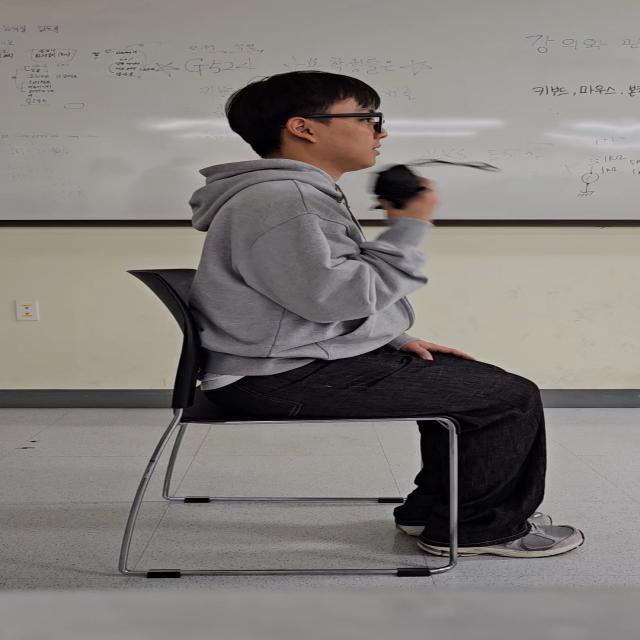curl: (214, 163, 477, 334)
